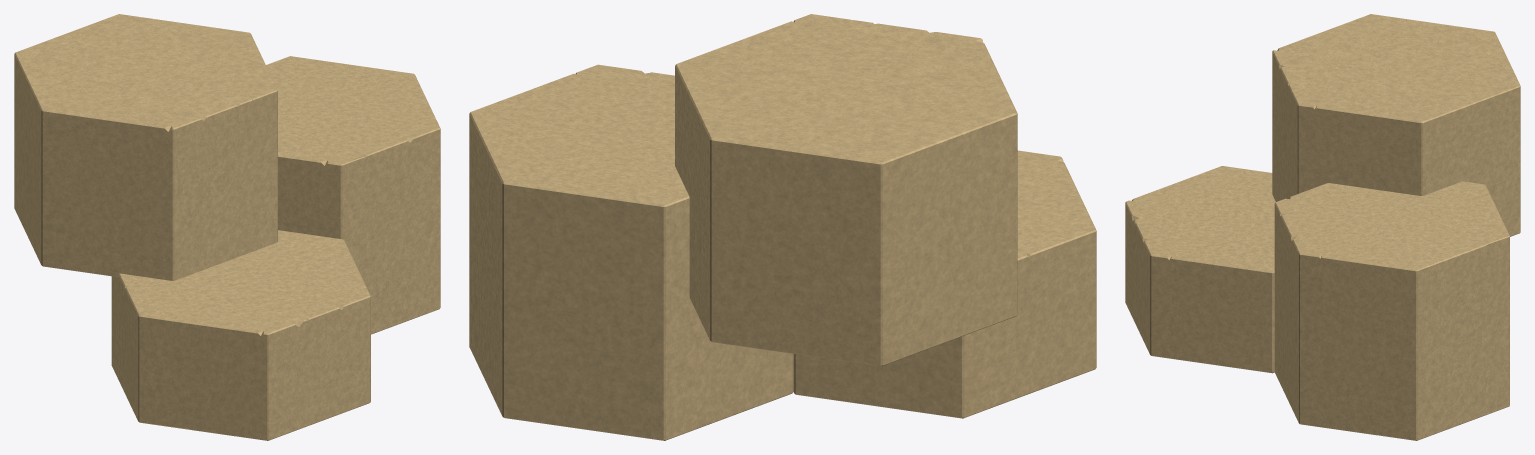
The model's file is OrirockConcentration_Aligned.fbx.
3 views of the same model, side by side, from view 1: azimuth 30°, elevation 25°; view 2: azimuth 150°, elevation 25°; view 3: azimuth 270°, elevation 25° (orthographic). The views are drawn at different scales.
Parts seen in each view (by area): view 1: 提纯源岩_左后_宽顶短壁, 提纯源岩_前方_宽扁断块, 提纯源岩_右后_斜切与下阶; view 2: 提纯源岩_左后_宽顶短壁, 提纯源岩_右后_斜切与下阶, 提纯源岩_前方_宽扁断块; view 3: 提纯源岩_右后_斜切与下阶, 提纯源岩_左后_宽顶短壁, 提纯源岩_前方_宽扁断块.
Boxes of the visible parts, box(x1,y1,x2,y2) form: 提纯源岩_左后_宽顶短壁: box(14, 14, 277, 280); 提纯源岩_前方_宽扁断块: box(111, 230, 370, 440); 提纯源岩_右后_斜切与下阶: box(266, 56, 440, 334); 提纯源岩_左后_宽顶短壁: box(675, 14, 1017, 366); 提纯源岩_右后_斜切与下阶: box(469, 64, 793, 440); 提纯源岩_前方_宽扁断块: box(793, 150, 1096, 418); 提纯源岩_右后_斜切与下阶: box(1274, 181, 1509, 440); 提纯源岩_左后_宽顶短壁: box(1272, 14, 1520, 236); 提纯源岩_前方_宽扁断块: box(1125, 166, 1275, 373).
Bounding box in the file's own units: 165 × 103 × 151.
